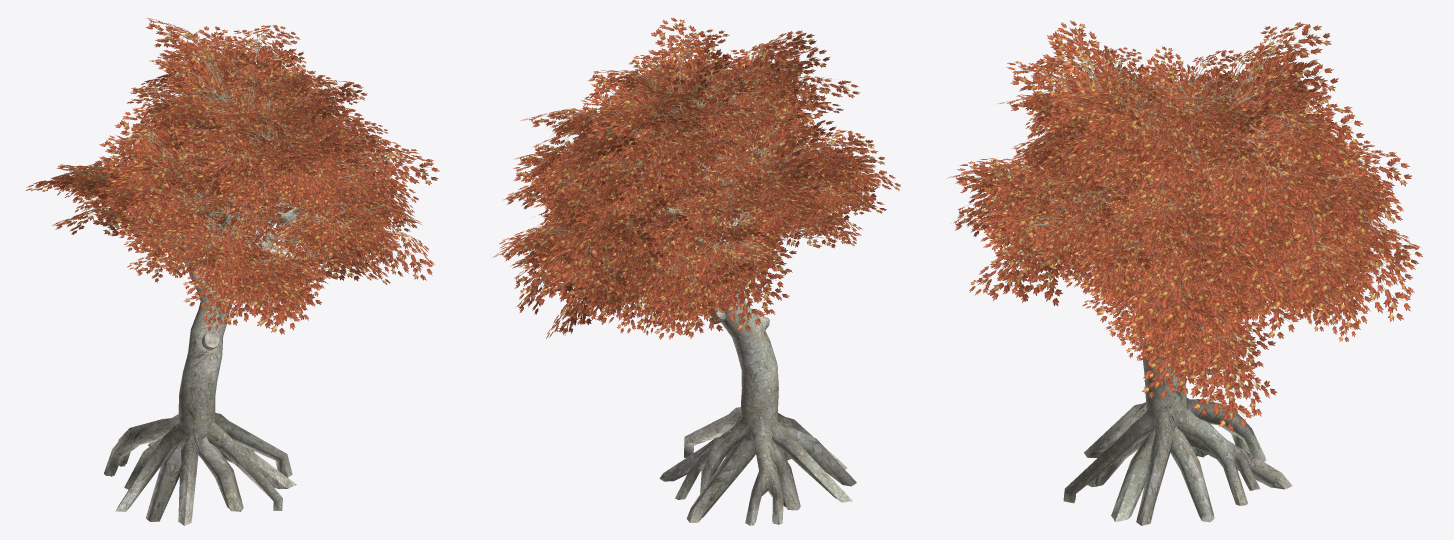
3 renders of one model, left to right at view 1: azimuth 30°, elevation 25°; view 2: azimuth 150°, elevation 25°; view 3: azimuth 270°, elevation 25°, orthographic. The views are drawn at different scales.
Parts seen in each view (by area): view 1: yggrassil_02; view 2: yggrassil_02; view 3: yggrassil_02.
Part boxes in pixels (box(x1,y1,x2,y2)): yggrassil_02: box(25, 17, 439, 525); yggrassil_02: box(493, 18, 900, 525); yggrassil_02: box(947, 20, 1422, 525).
Bounding box in the file's own units: 1002 × 1172 × 1152.
Materials: 4 (3 with a texture image).
